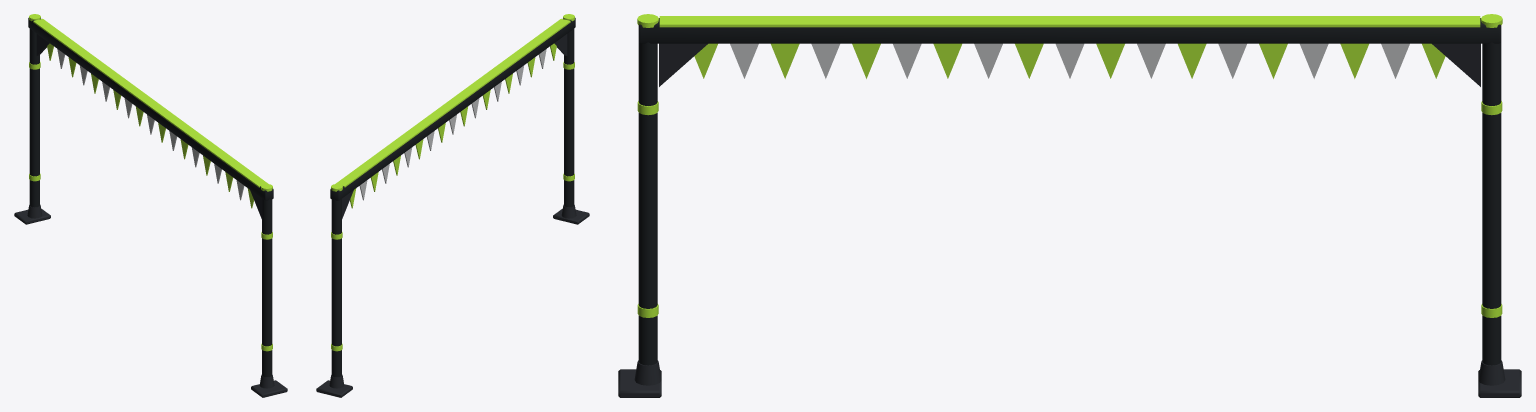
Rendered from checkpoint_gate.glb.
The picture shows the model from 3 angles, left to right: view 1: azimuth 30°, elevation 25°; view 2: azimuth 150°, elevation 25°; view 3: azimuth 270°, elevation 25°; orthographic projection. The views are drawn at different scales.
Visible parts, largest first — view 1: Frame, Glow; view 2: Frame, Glow; view 3: Frame, Glow.
Boxes of the visible parts, box(x1,y1,x2,y2) form: Frame: box(14, 18, 287, 397); Glow: box(29, 14, 272, 351); Frame: box(316, 18, 589, 397); Glow: box(331, 14, 574, 351); Frame: box(618, 18, 1521, 397); Glow: box(637, 14, 1502, 317).
Bounding box in the file's own units: 0.8 × 6 × 13.32.
